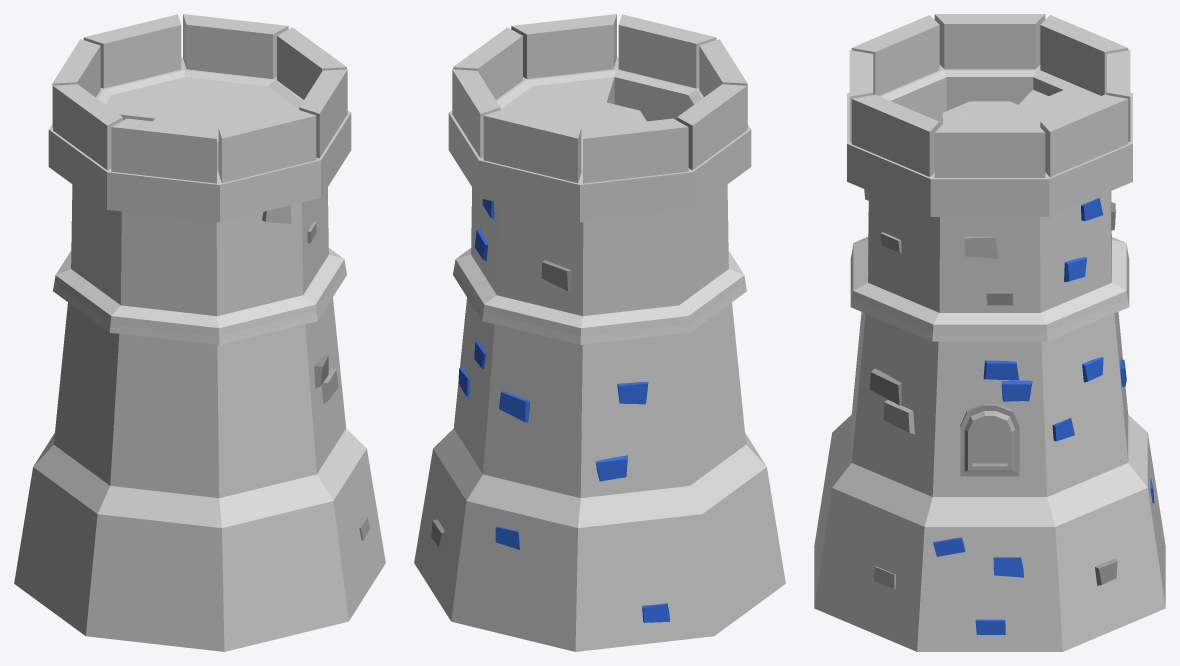
File: Castletemp.fbx
The picture shows the model from 3 angles, left to right: view 1: azimuth 30°, elevation 25°; view 2: azimuth 150°, elevation 25°; view 3: azimuth 270°, elevation 25°; orthographic projection.
Visible parts, largest first — view 1: Cube.023; view 2: Cube.023; view 3: Cube.023.
Part boxes in pixels (x1=…): Cube.023: x1=14, y1=14, x2=385, y2=651; Cube.023: x1=414, y1=14, x2=785, y2=651; Cube.023: x1=814, y1=14, x2=1165, y2=651.
Bounding box in the file's own units: 1910 × 3014 × 1904.
